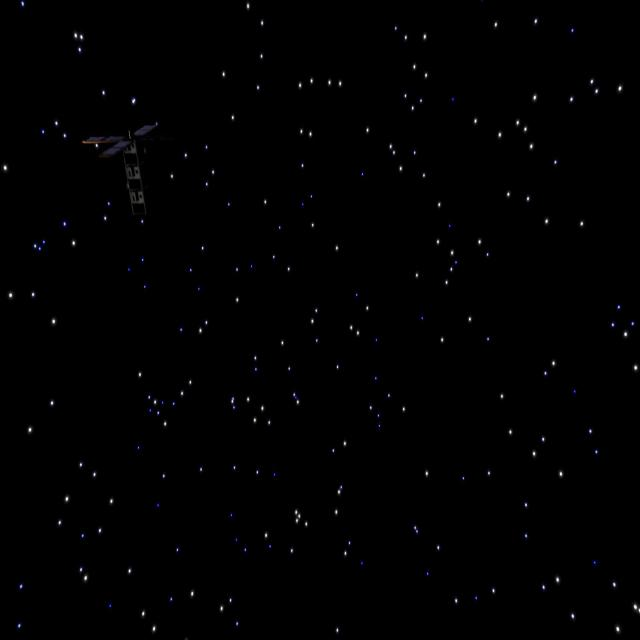satellite: (76, 107, 171, 209)
